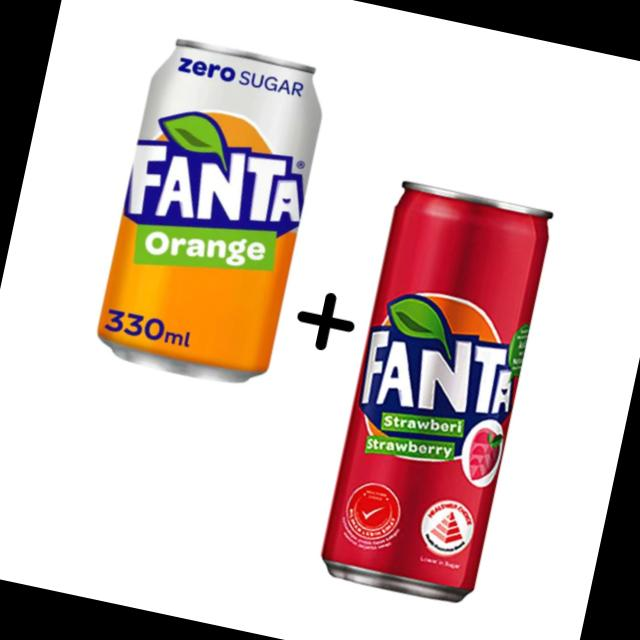fanta: (84, 19, 342, 396)
